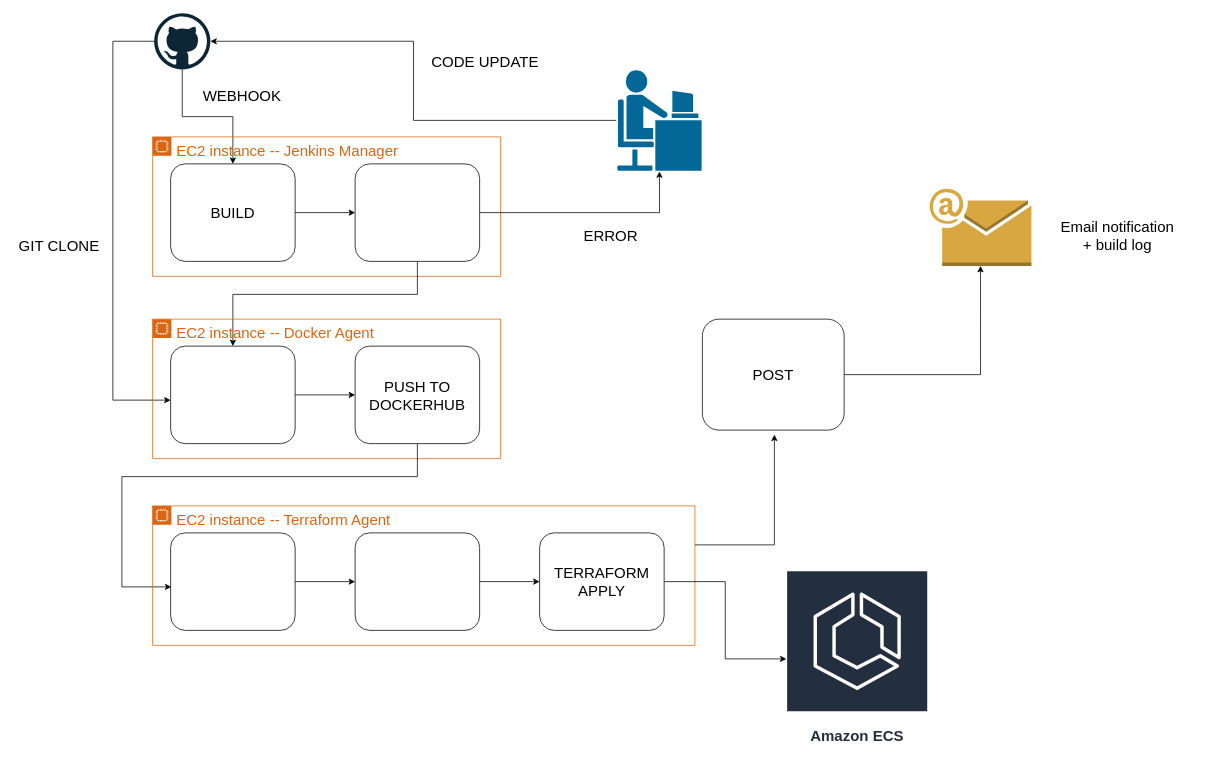
This 1211x761 diagram has some shape labels left out. The shapes that lost their labels are listed below. From the top down, each one's centre as x and y in pixels, then its label:
the point at 417,212: TEST
the point at 232,394: CREATE APP IMAGE
the point at 232,581: TERRAFORM INIT
the point at 417,581: TERRAFORM PLAN
